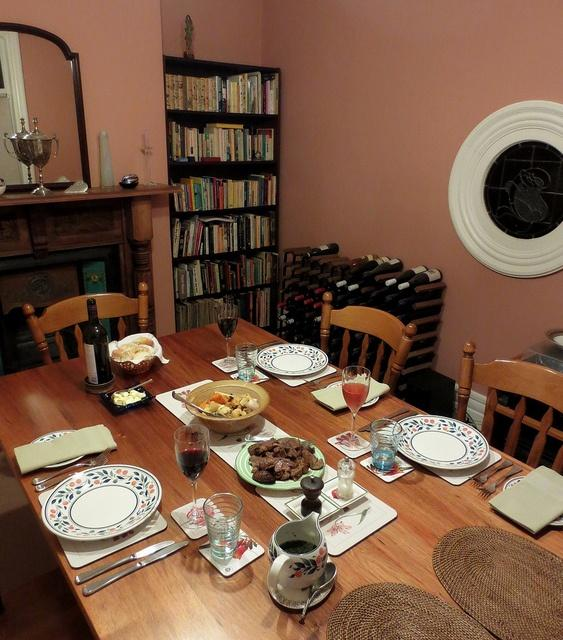Meja: (0, 315, 562, 639)
Rak: (160, 55, 282, 332)
